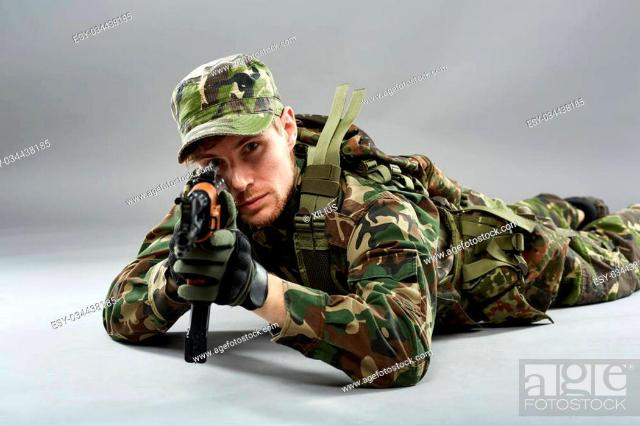other: (109, 62, 617, 372)
